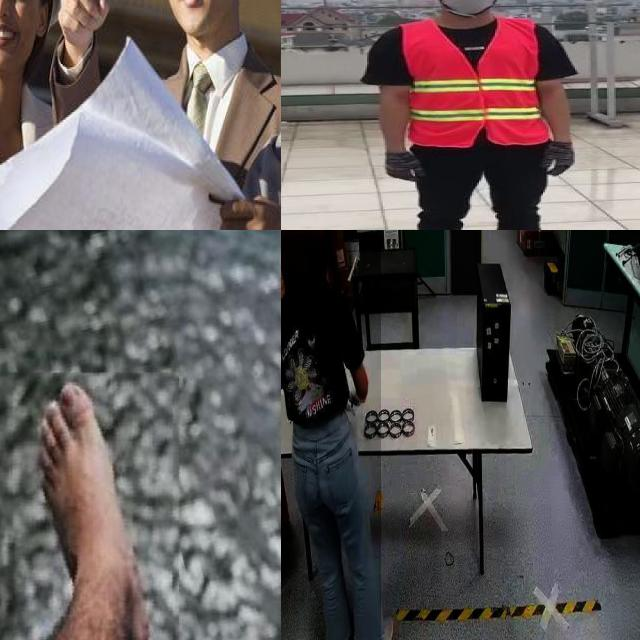Barefoots: (27, 371, 170, 640)
No_Ear-Protection: (33, 0, 49, 47)
person: (358, 0, 587, 230), (281, 230, 381, 640)
shoes: (357, 613, 400, 640), (325, 604, 352, 640)
vest: (398, 21, 556, 145)
